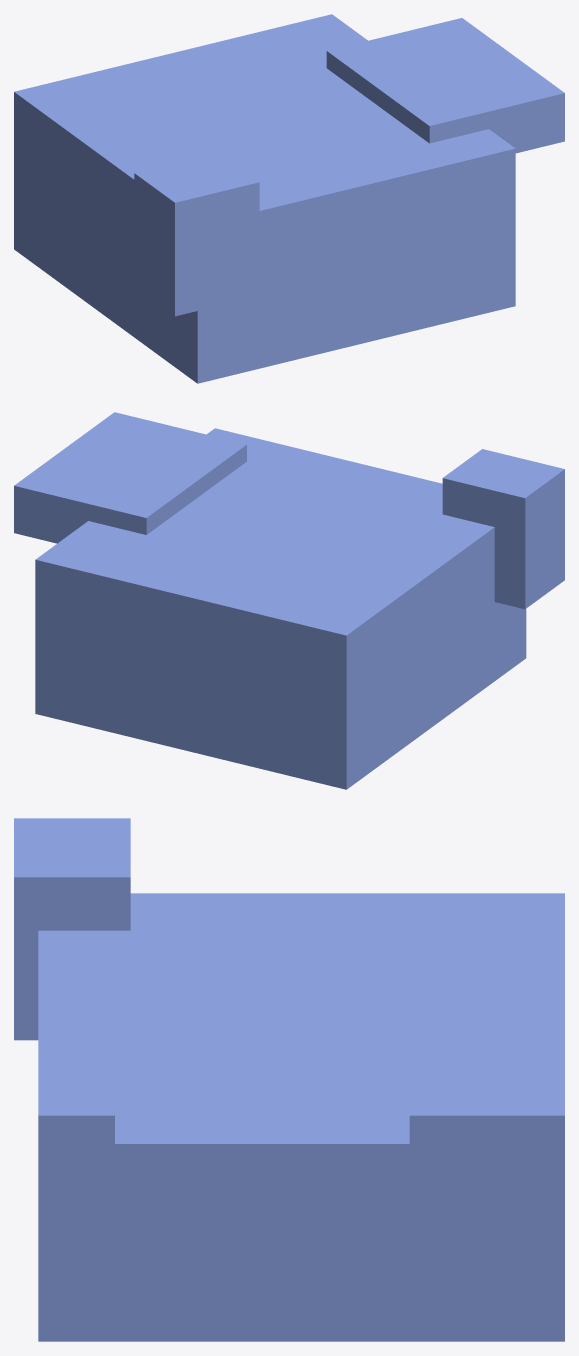
Rendered from floor2.fbx.
3 renders of one model, top to bottom at view 1: azimuth 30°, elevation 25°; view 2: azimuth 150°, elevation 25°; view 3: azimuth 270°, elevation 25°, orthographic. The views are drawn at different scales.
Visible parts, largest first — view 1: Cube.004, Cube.006, Cube.005; view 2: Cube.004, Cube.006, Cube.005; view 3: Cube.004, Cube.006, Cube.005.
Part boxes in pixels (left/top/right/bottom): Cube.004: left=14, top=14, right=515, bottom=383; Cube.006: left=326, top=18, right=564, bottom=153; Cube.005: left=134, top=152, right=259, bottom=316; Cube.004: left=35, top=428, right=526, bottom=789; Cube.006: left=14, top=412, right=246, bottom=543; Cube.005: left=442, top=449, right=564, bottom=609; Cube.004: left=38, top=893, right=564, bottom=1341; Cube.006: left=115, top=1049, right=409, bottom=1213; Cube.005: left=14, top=818, right=130, bottom=1040.
Size of the model in its own units: 134 by 58.52 by 105.
